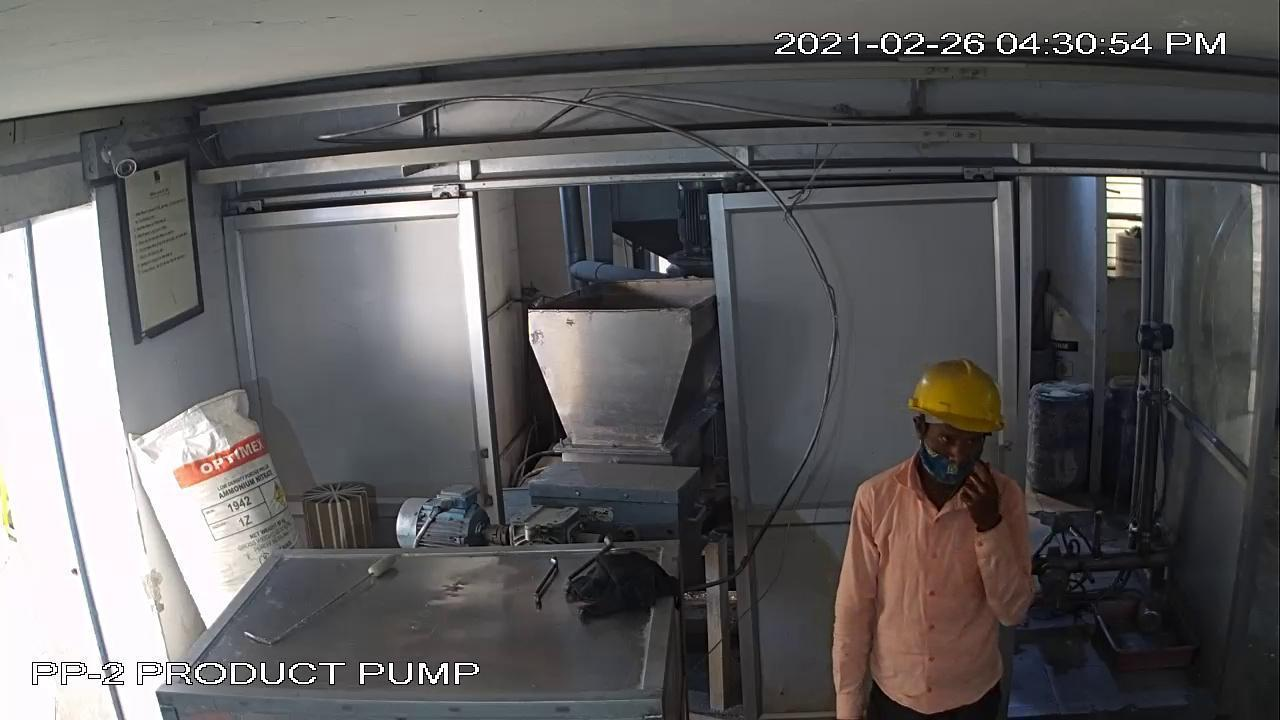helmet: (888, 343, 1032, 457)
